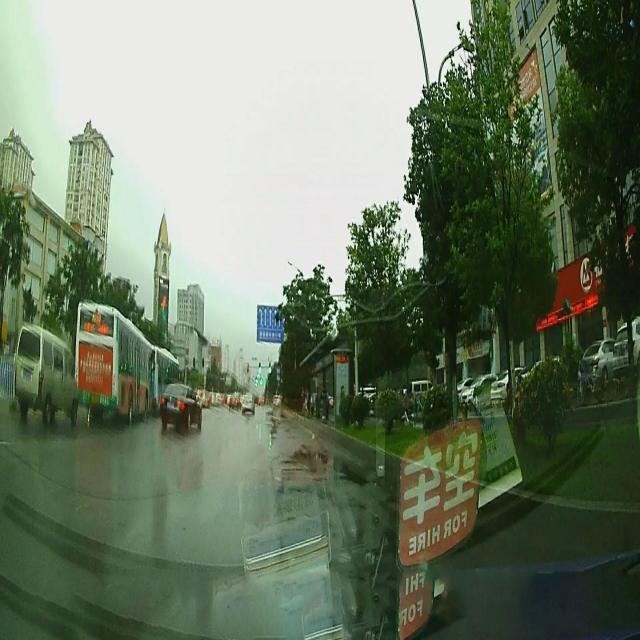car: (12, 322, 78, 426), (160, 380, 202, 435), (240, 391, 253, 413)
